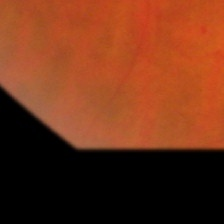MA: (200, 26, 207, 34)
